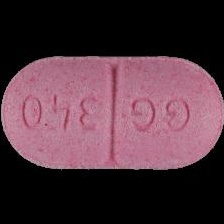0781-5189: (0, 0, 224, 224)
